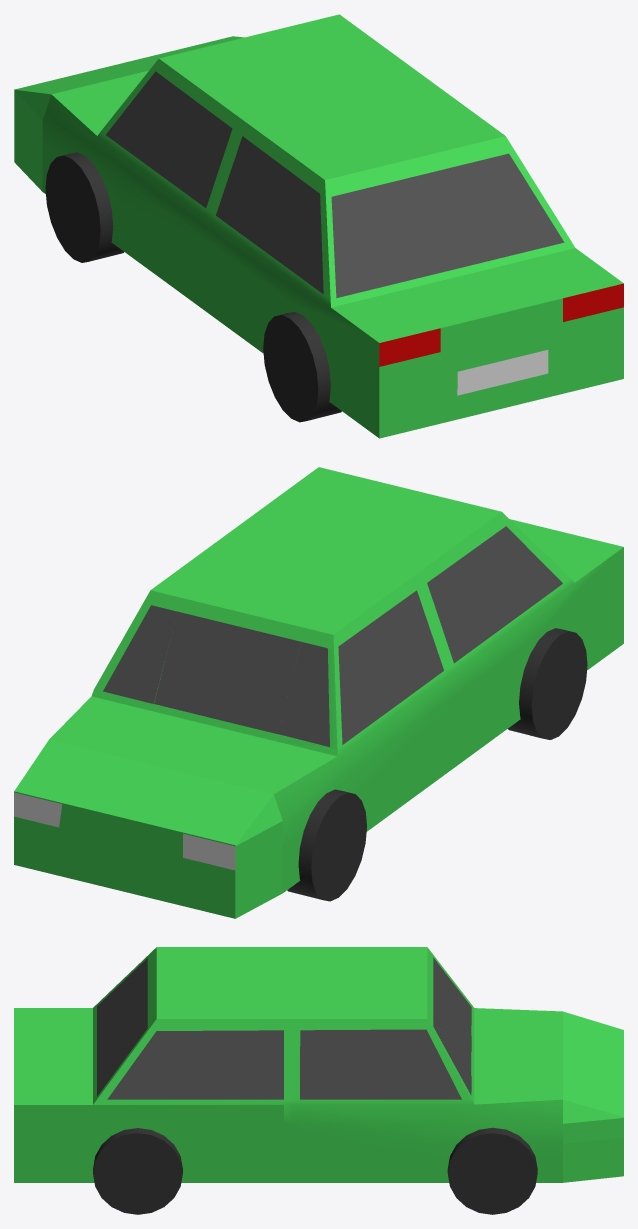
Rendered from carGreen.fbx.
3 views of the same model, one above another, from view 1: azimuth 30°, elevation 25°; view 2: azimuth 150°, elevation 25°; view 3: azimuth 270°, elevation 25° (orthographic). The views are drawn at different scales.
Parts seen in each view (by area): view 1: pasted__pCube1, pasted__pasted__pCylinder1, pasted__pCylinder1; view 2: pasted__pCube1, pasted__pCylinder1, pasted__pasted__pCylinder1; view 3: pasted__pCube1, pasted__pasted__pasted__pCylinder1, pasted__pasted__pasted__pasted__pCylinder1.
Boxes of the visible parts, x1=… form: pasted__pCube1: x1=14, y1=14, x2=623, y2=438; pasted__pasted__pCylinder1: x1=45, y1=152, x2=123, y2=262; pasted__pCylinder1: x1=263, y1=312, x2=341, y2=422; pasted__pCube1: x1=14, y1=467, x2=623, y2=918; pasted__pCylinder1: x1=508, y1=628, x2=587, y2=739; pasted__pasted__pCylinder1: x1=287, y1=789, x2=366, y2=901; pasted__pCube1: x1=14, y1=947, x2=623, y2=1182; pasted__pasted__pasted__pCylinder1: x1=447, y1=1127, x2=537, y2=1214; pasted__pasted__pasted__pasted__pCylinder1: x1=93, y1=1128, x2=182, y2=1214.
Bounding box in the file's own units: 4.3 × 3.32 × 10.29.
